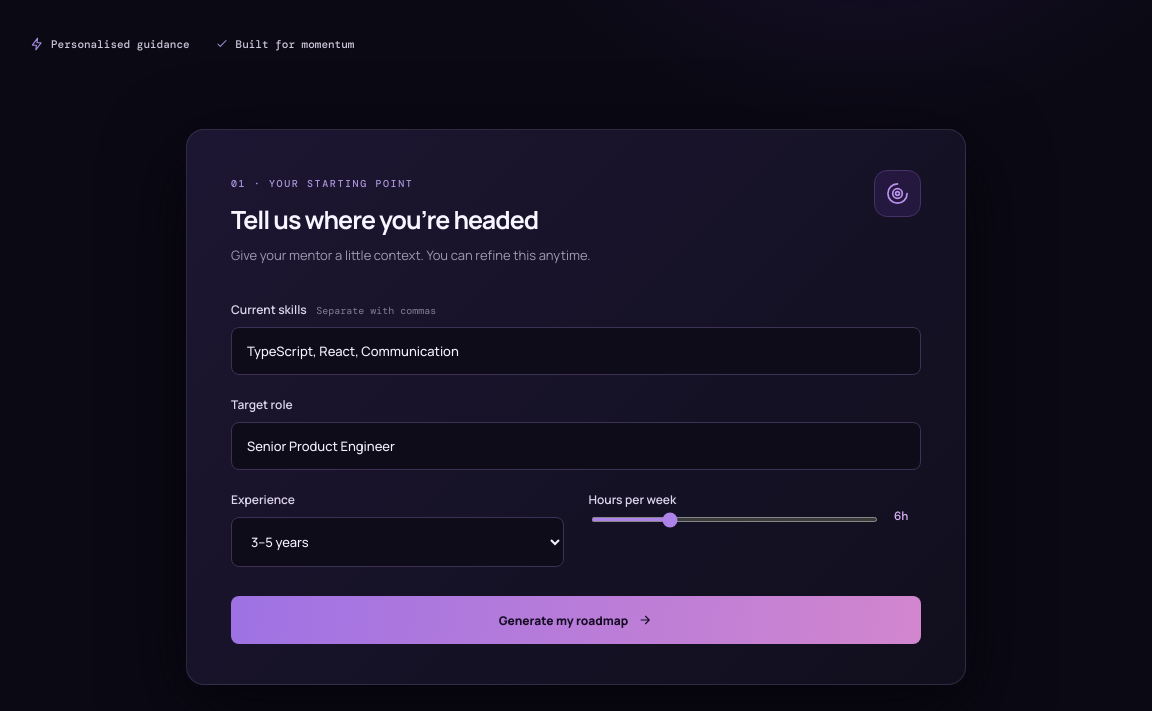
Test: SkillBridge landing page › shows validation feedback instead of generating an incomplete profile
(page scrolled)
Clear the field labelled "Current skills Separate with commas" at (576, 351), box top-left (231, 327), bottom-right (921, 375)
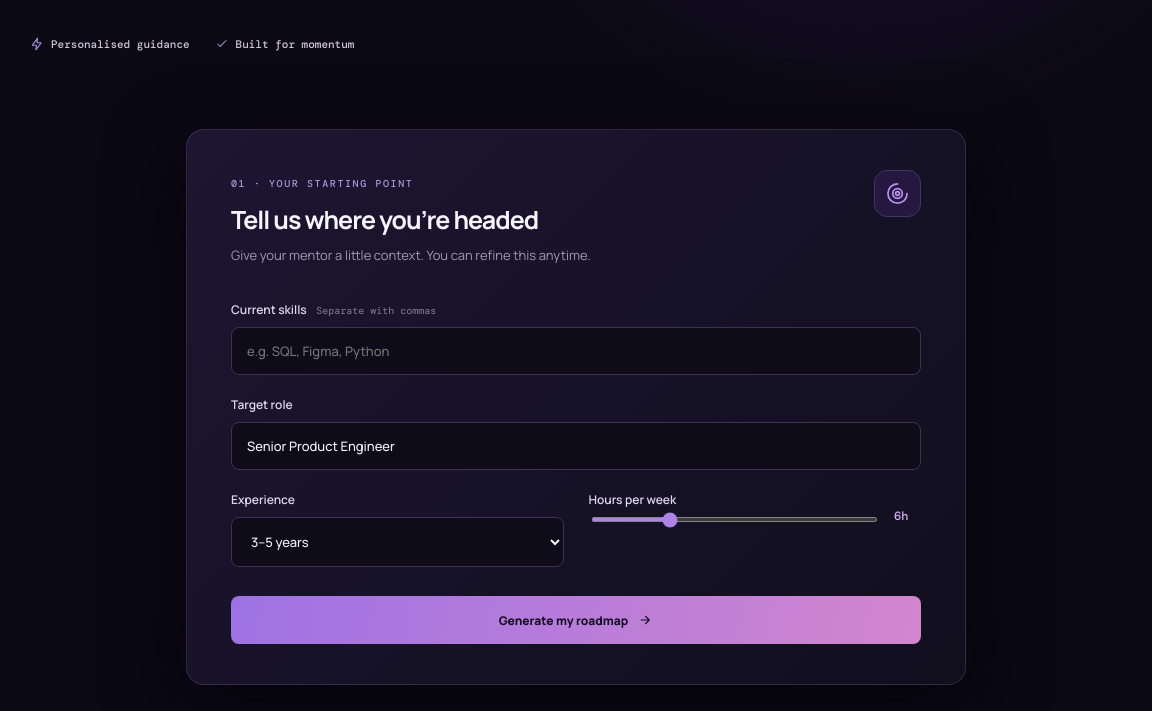
Click the button "Generate my roadmap" at (576, 620), box top-left (231, 596), bottom-right (921, 644)
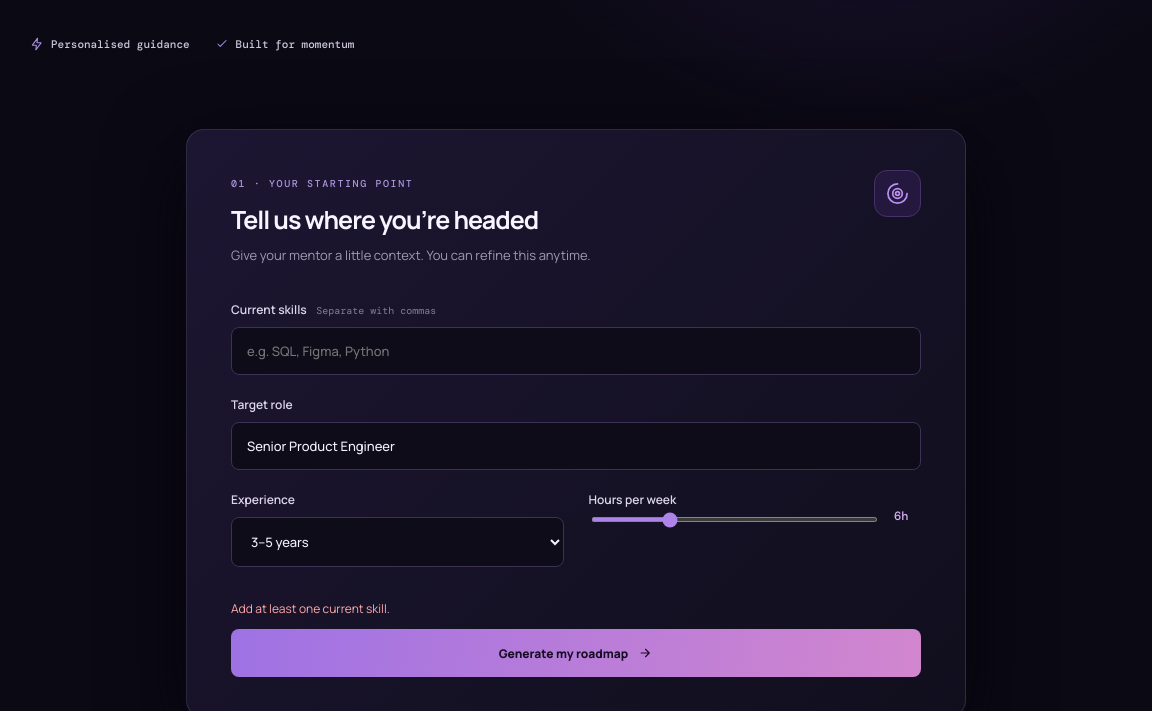
Expected: the message shows "at least one current skill", top-left (231, 600), bottom-right (390, 617)
